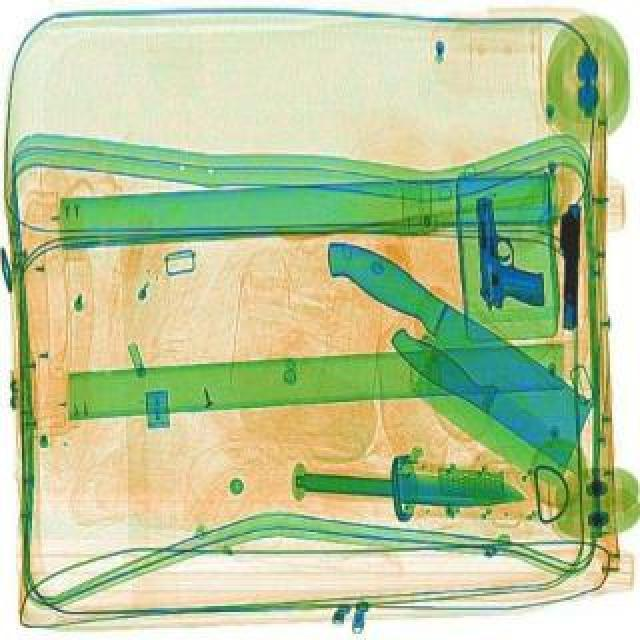gun: (472, 192, 544, 308), (554, 202, 582, 330)
knife: (278, 228, 618, 494), (382, 320, 606, 490), (298, 462, 526, 510)
